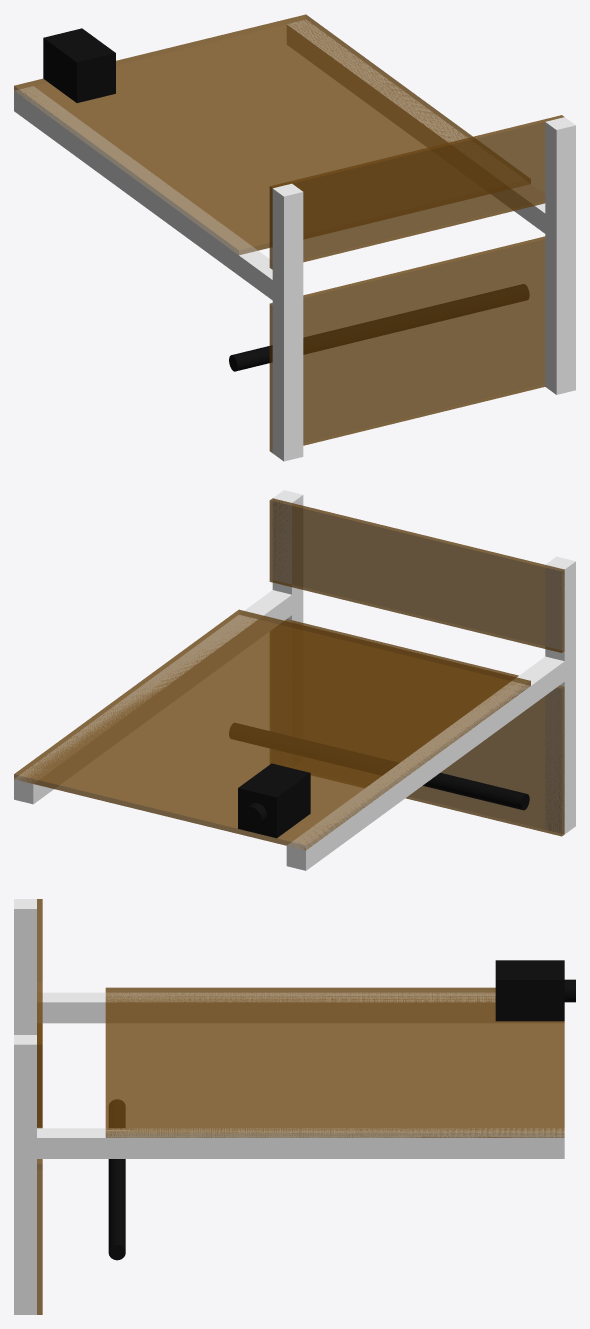
3 views of the same model, one above another, from view 1: azimuth 30°, elevation 25°; view 2: azimuth 150°, elevation 25°; view 3: azimuth 270°, elevation 25° (orthographic). The views are drawn at different scales.
Visible parts, largest first — view 1: SOLID (×9); view 2: SOLID (×9); view 3: SOLID (×9).
Part boxes in pixels (left/top/right/bottom): SOLID (×9): left=14, top=14, right=575, bottom=461; SOLID (×9): left=14, top=490, right=575, bottom=870; SOLID (×9): left=14, top=899, right=575, bottom=1314.
Size of the model in its own units: 0.381 by 0.3302 by 0.6223.
